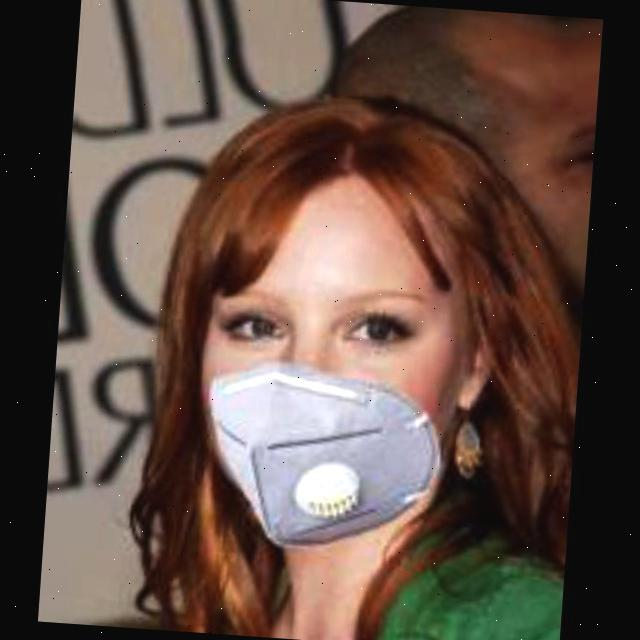suspicion: (142, 104, 482, 593)
